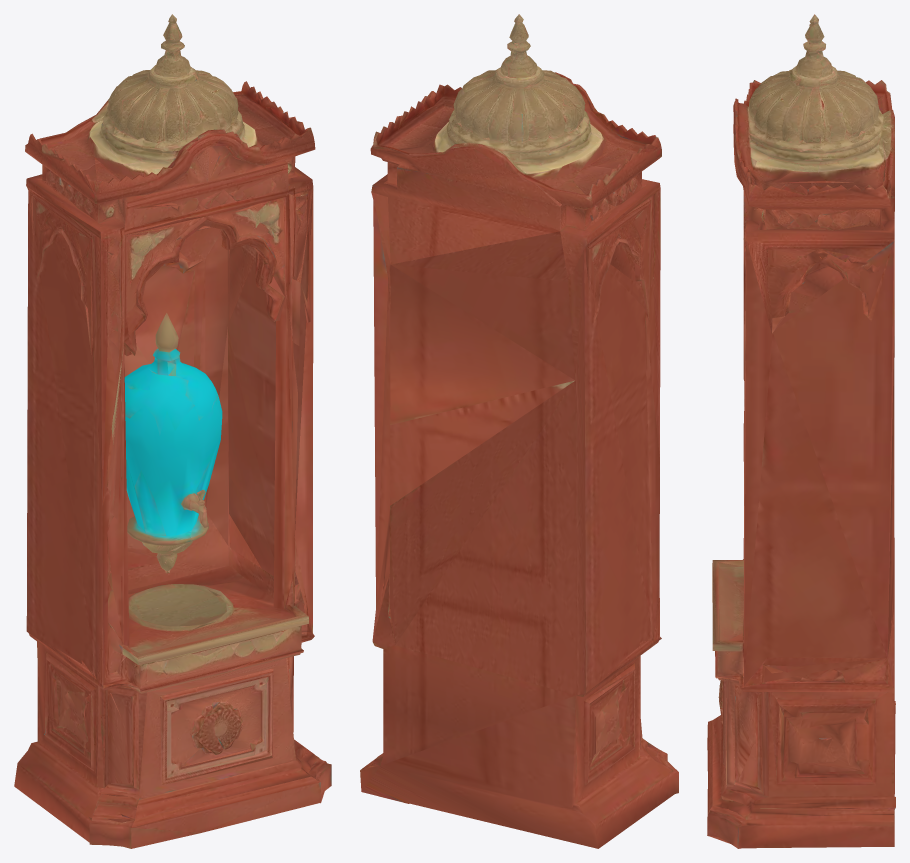
Rendered from la_perk_test.glb.
3 renders of one model, left to right at view 1: azimuth 30°, elevation 25°; view 2: azimuth 150°, elevation 25°; view 3: azimuth 270°, elevation 25°, orthographic.
Parts seen in each view (by area): view 1: la_perk_test; view 2: la_perk_test; view 3: la_perk_test.
Part boxes in pixels (x1=…): la_perk_test: x1=14, y1=14, x2=331, y2=848; la_perk_test: x1=360, y1=14, x2=678, y2=848; la_perk_test: x1=707, y1=14, x2=895, y2=848.
Size of the model in its own units: 0.6884 by 2.1 by 0.4636.
1 material, 1 textured.
